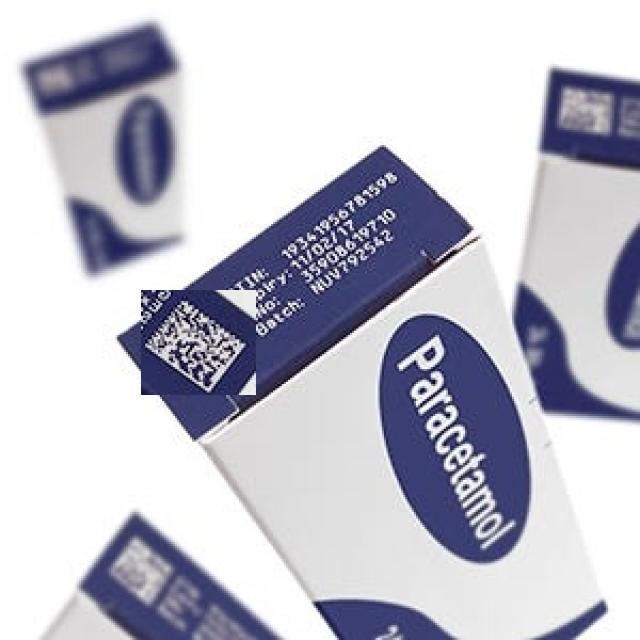DataMatrix: (141, 290, 256, 395)
